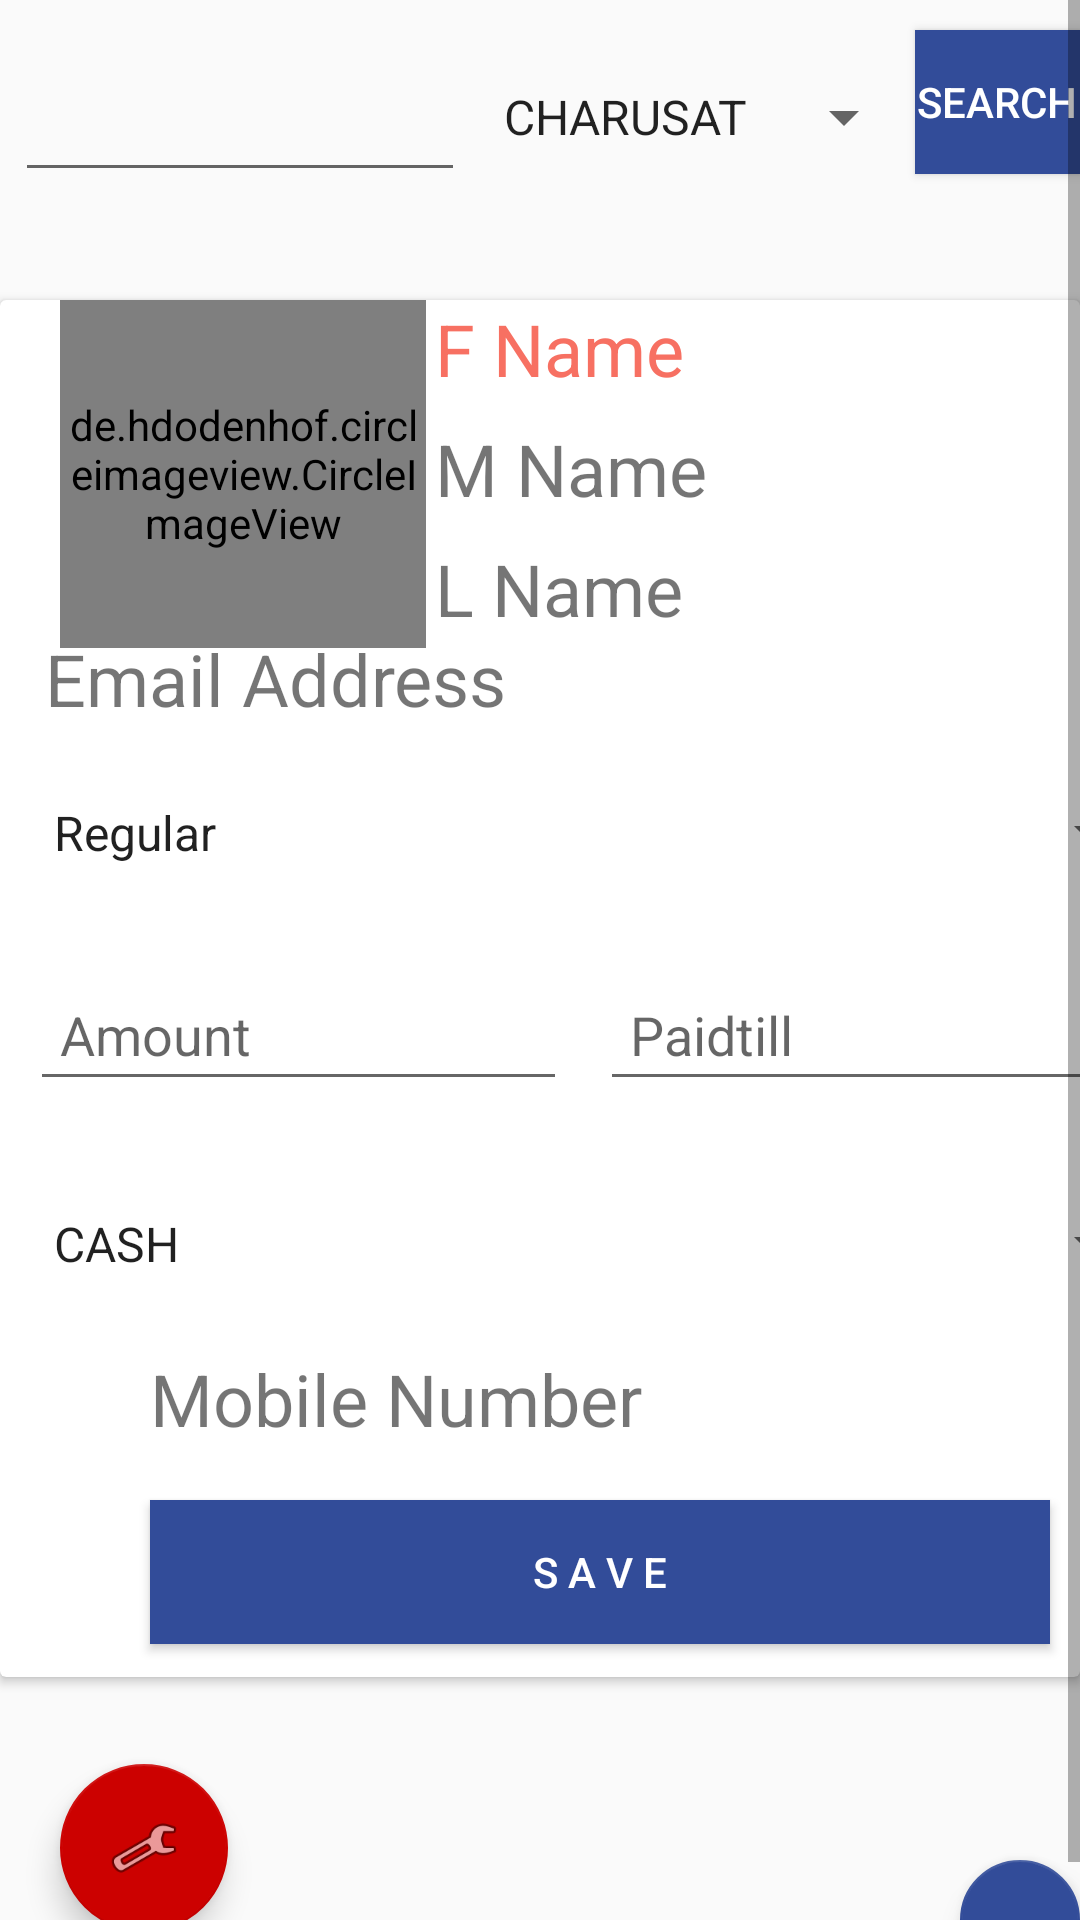

Named icons in this screenshot (1080*1920) and their bounding boxes, detection(x1, y1, x2, y2):
manage: detection(60, 1764, 228, 1920)
